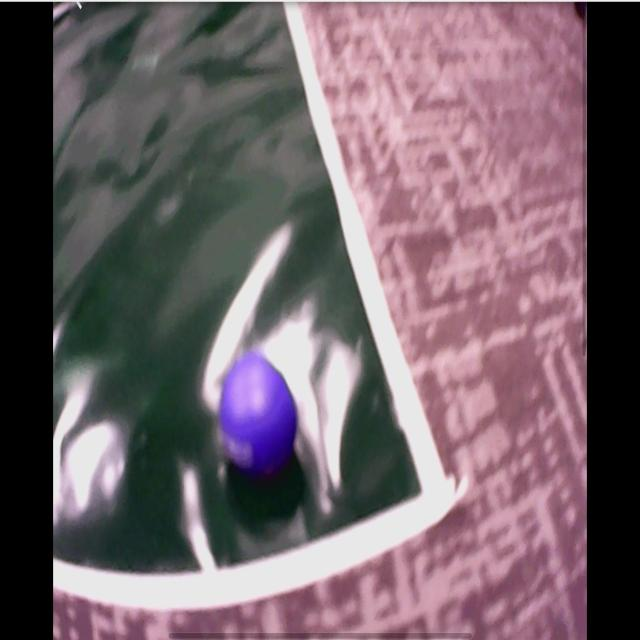ball: (222, 355, 298, 474)
